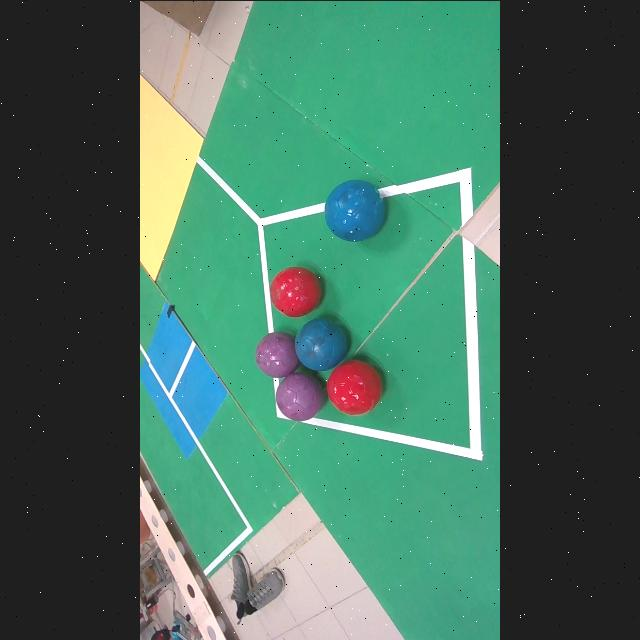B: (324, 179, 384, 241), (295, 318, 347, 370)
P: (277, 372, 325, 420), (255, 332, 300, 376)
R: (327, 359, 382, 415), (270, 266, 322, 317)
